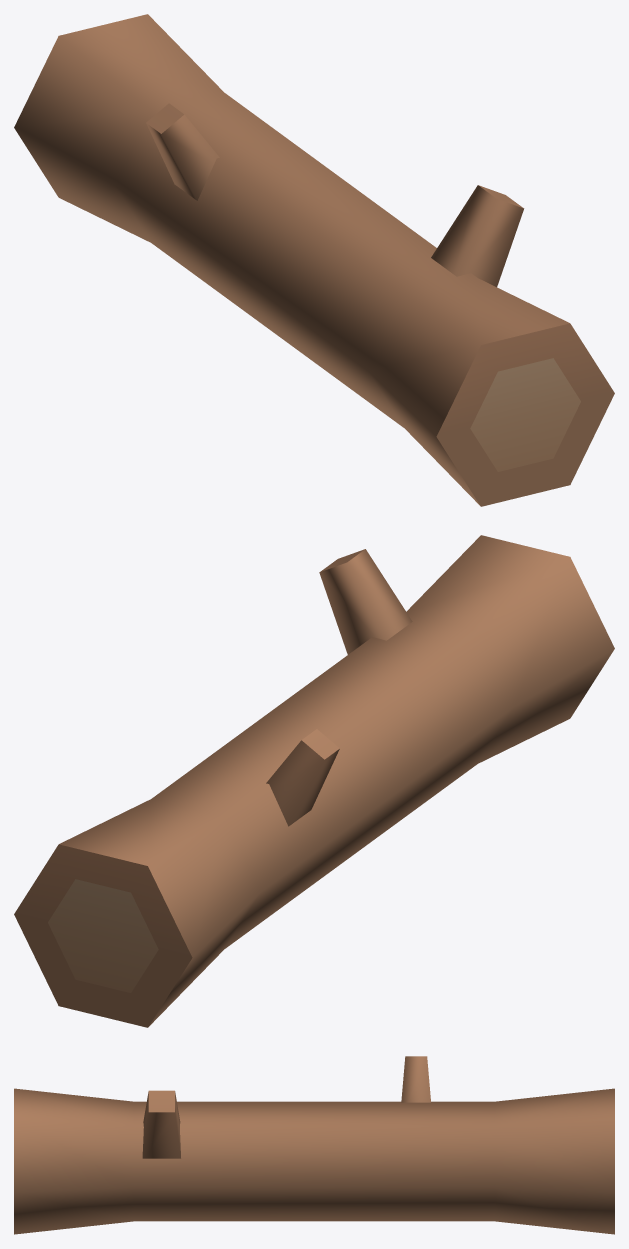
The model's file is log.glb.
The picture shows the model from 3 angles, top to bottom: view 1: azimuth 30°, elevation 25°; view 2: azimuth 150°, elevation 25°; view 3: azimuth 270°, elevation 25°; orthographic projection. The views are drawn at different scales.
Parts seen in each view (by area): view 1: tree-log; view 2: tree-log; view 3: tree-log.
Boxes of the visible parts, bbox=[...] form: tree-log: bbox=[14, 14, 614, 506]; tree-log: bbox=[14, 535, 614, 1027]; tree-log: bbox=[14, 1056, 614, 1234].
Bounding box in the file's own units: 0.2495 × 0.2771 × 1.
